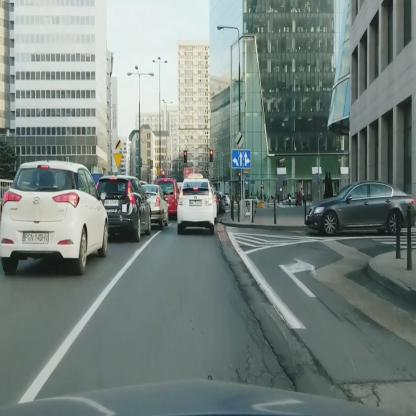cars: (1, 157, 108, 273), (306, 181, 416, 236), (94, 176, 152, 241), (178, 178, 215, 236), (140, 184, 169, 229), (156, 179, 178, 220)
